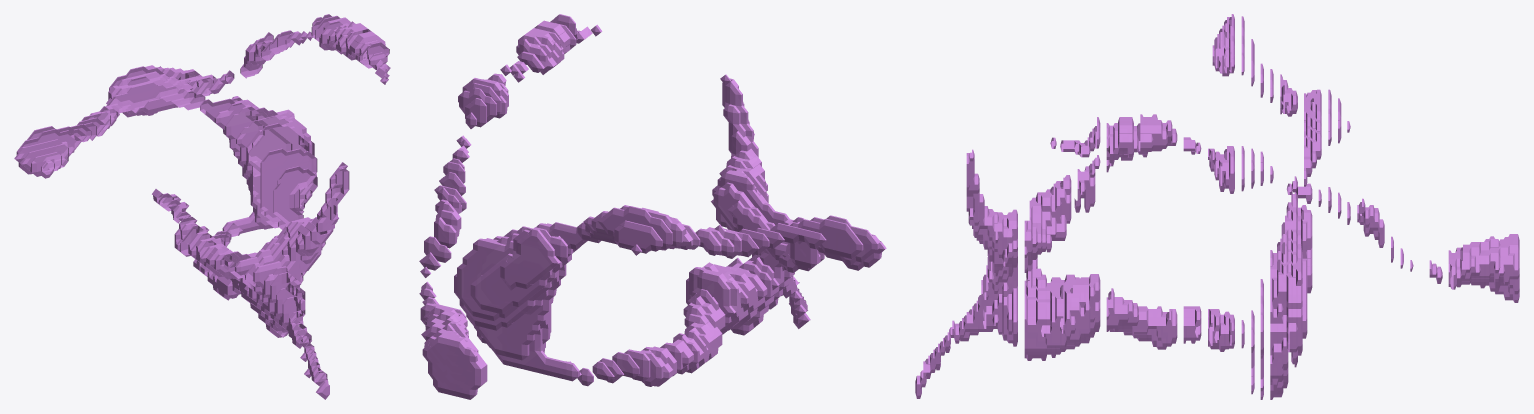
The model's file is SVV_CEPDR.gltf.
The picture shows the model from 3 angles, left to right: view 1: azimuth 30°, elevation 25°; view 2: azimuth 150°, elevation 25°; view 3: azimuth 270°, elevation 25°; orthographic projection. The views are drawn at different scales.
Parts seen in each view (by area): view 1: CEPDR; view 2: CEPDR; view 3: CEPDR.
Boxes of the visible parts, bbox=[...] form: CEPDR: bbox=[14, 14, 390, 399]; CEPDR: bbox=[419, 14, 886, 399]; CEPDR: bbox=[915, 14, 1519, 399].
Size of the model in its own units: 40462 by 31240 by 48154.
